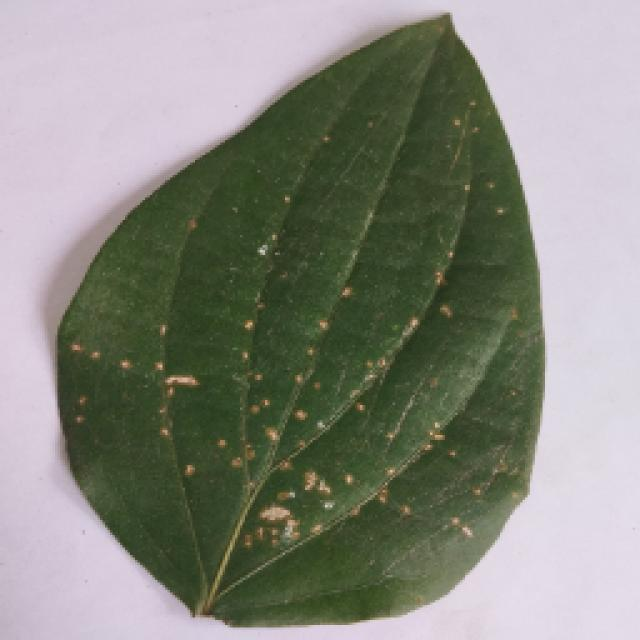pollu-disease: (55, 12, 543, 622)
